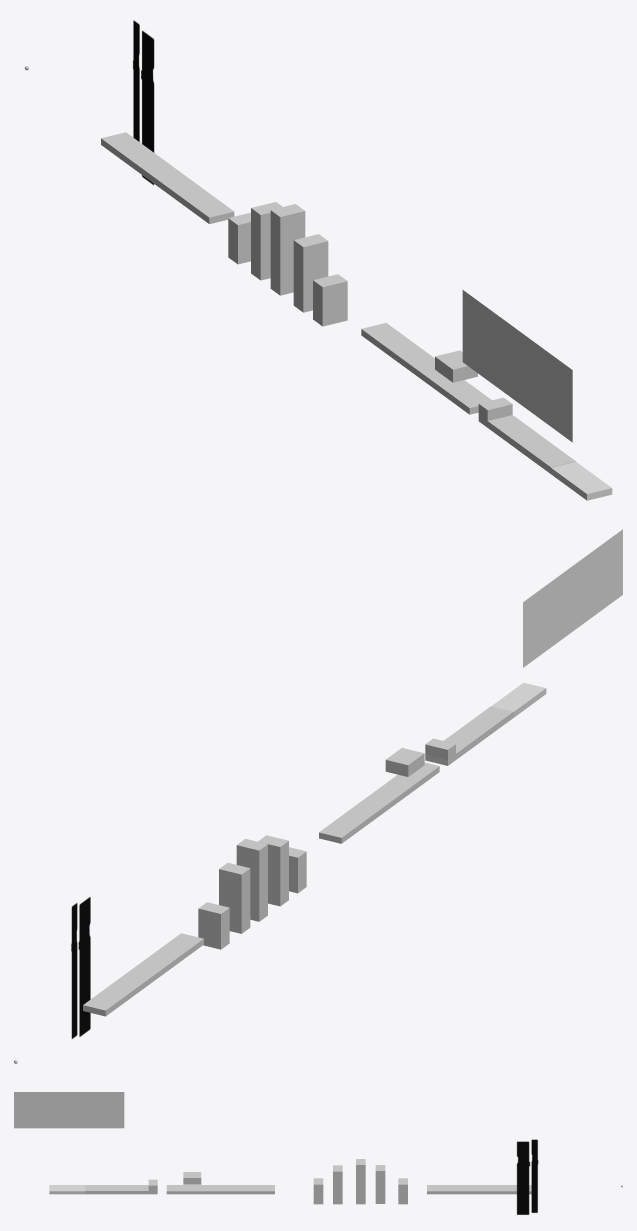
Rendered from Map_17.glb.
3 renders of one model, top to bottom at view 1: azimuth 30°, elevation 25°; view 2: azimuth 150°, elevation 25°; view 3: azimuth 270°, elevation 25°, orthographic. The views are drawn at different scales.
Visible parts, largest first — view 1: Plane.001, Platform 1.002, Platform 1.001, Plateform jump.005, Plane, Plateform jump.004, Platform 1, Platform 1.003, Plateform jump.001, Plateform jump.006, Plateform jump.007, Plateform jump.002; view 2: Plane.001, Platform 1.002, Platform 1.001, Plane, Plateform jump.006, Plateform jump.005, Platform 1, Plateform jump.004, Plateform jump.007, Platform 1.003, Plateform jump.002, Plateform jump.001; view 3: Plane.001, Plane, Platform 1.001, Platform 1.002, Platform 1, Plateform jump.005, Plateform jump.006, Plateform jump.004, Platform 1.003, Plateform jump.001, Plateform jump.007, Plateform jump.002.
Part boxes in pixels (<box>): Plane.001: <box>462,290,572,442</box>; Platform 1.002: <box>101,132,234,223</box>; Platform 1.001: <box>361,323,491,414</box>; Plateform jump.005: <box>270,204,305,295</box>; Plane: <box>133,20,154,185</box>; Plateform jump.004: <box>293,234,328,312</box>; Platform 1: <box>478,415,575,473</box>; Platform 1.003: <box>479,416,612,500</box>; Plateform jump.001: <box>313,274,347,326</box>; Plateform jump.006: <box>251,202,282,280</box>; Plateform jump.007: <box>228,212,250,264</box>; Plateform jump.002: <box>435,350,477,382</box>; Plane.001: <box>523,529,622,667</box>; Platform 1.002: <box>83,933,203,1016</box>; Platform 1.001: <box>319,762,439,843</box>; Plane: <box>71,897,90,1038</box>; Plateform jump.006: <box>219,863,250,933</box>; Plateform jump.005: <box>236,838,267,921</box>; Platform 1: <box>444,706,513,765</box>; Plateform jump.004: <box>258,835,288,906</box>; Plateform jump.007: <box>198,902,229,949</box>; Platform 1.003: <box>425,682,546,765</box>; Plateform jump.002: <box>385,748,424,776</box>; Plateform jump.001: <box>289,847,306,893</box>; Plane.001: <box>14,1092,124,1128</box>; Plane: <box>517,1139,538,1214</box>; Platform 1.001: <box>166,1185,274,1194</box>; Platform 1.002: <box>427,1185,531,1194</box>; Platform 1: <box>85,1185,157,1194</box>; Plateform jump.005: <box>356,1159,365,1204</box>; Plateform jump.006: <box>375,1165,385,1203</box>; Plateform jump.004: <box>333,1165,342,1204</box>; Platform 1.003: <box>49,1185,85,1194</box>; Plateform jump.001: <box>313,1178,323,1204</box>; Plateform jump.007: <box>398,1178,407,1204</box>; Plateform jump.002: <box>183,1172,201,1184</box>.
Bounding box in the file's own units: 6.75 × 15.9 × 84.25.
3 materials, 1 textured.
